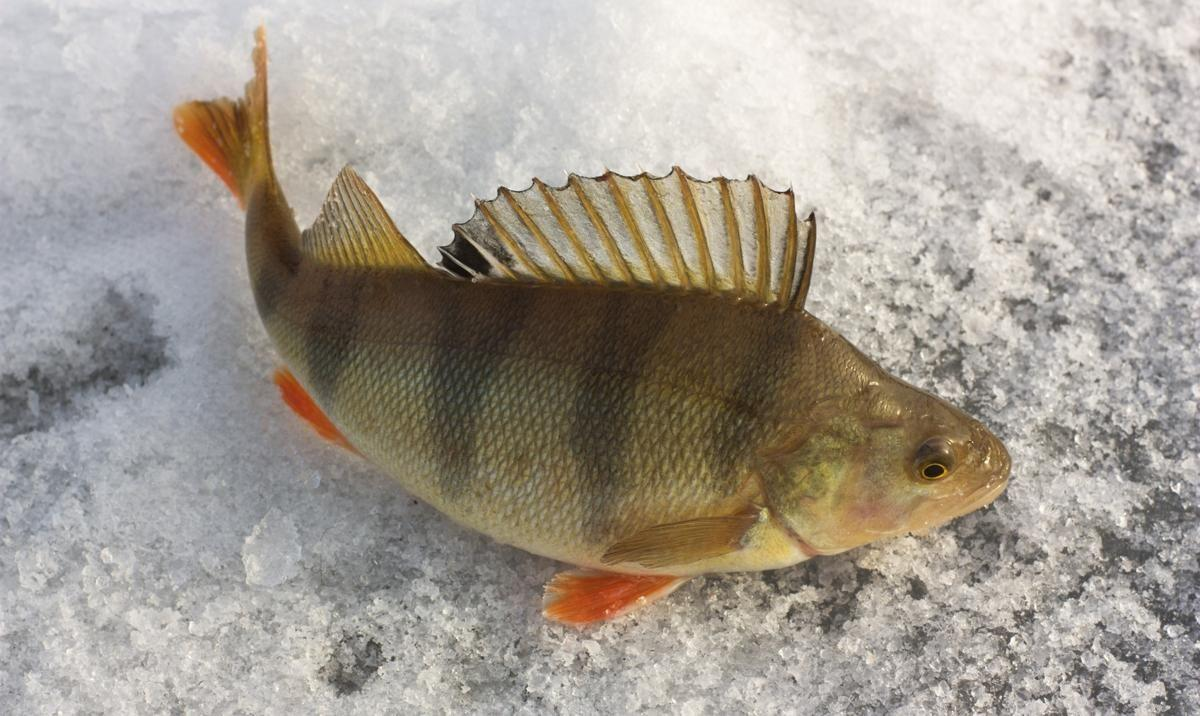Perch: (177, 24, 1012, 628)
